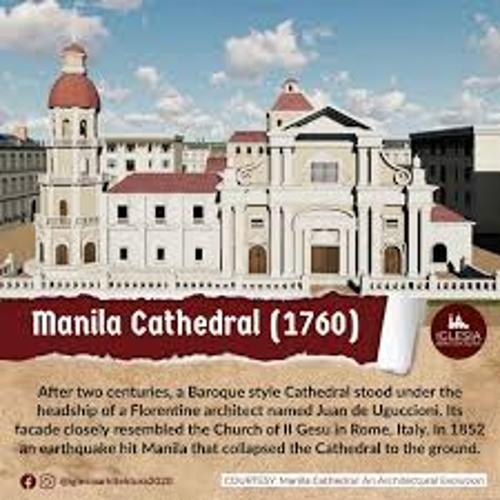Manila Cathedral Church: (11, 26, 484, 277)
